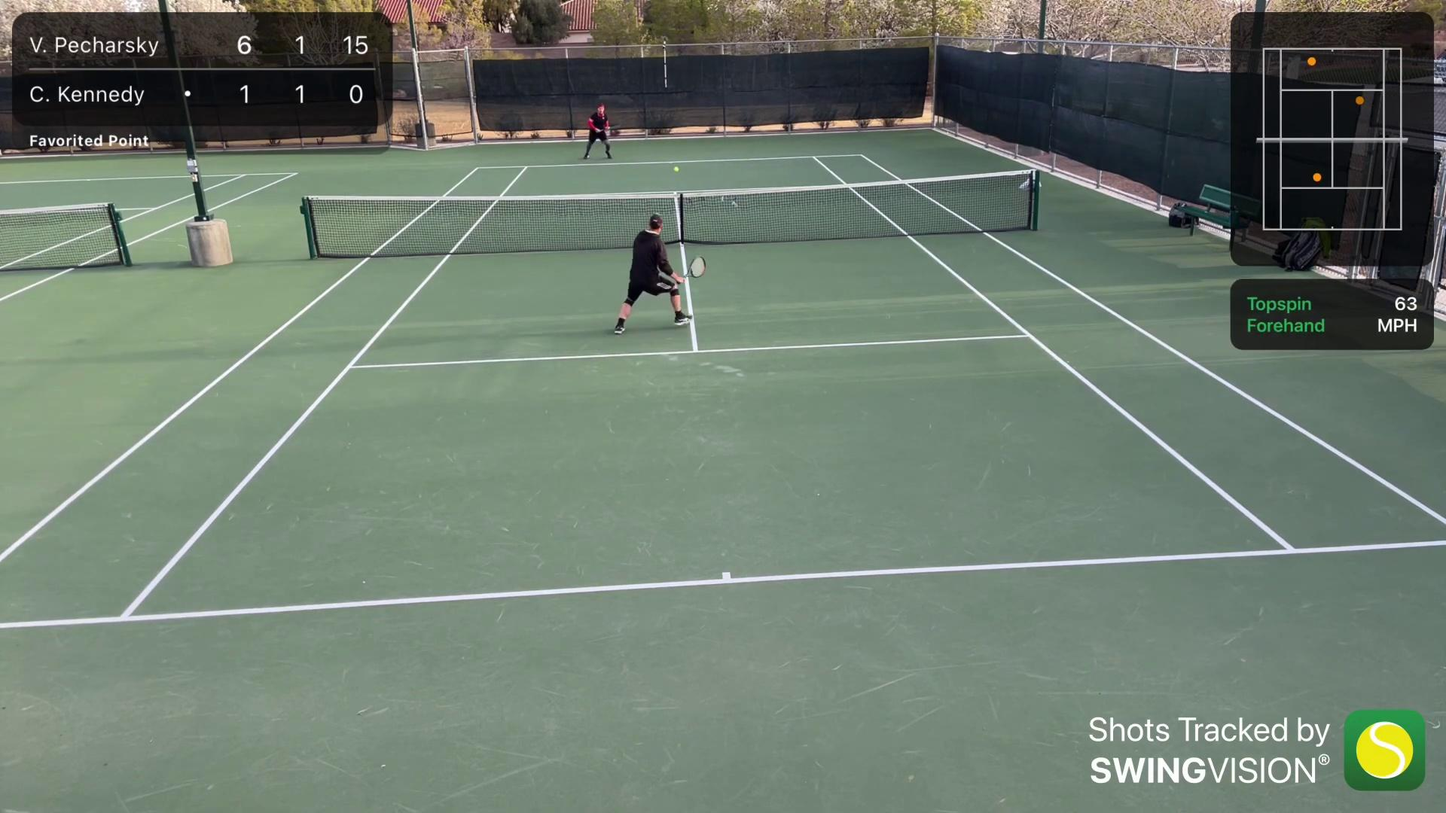ball: (674, 167, 680, 174)
